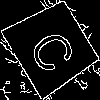C: (26, 22, 85, 77)
